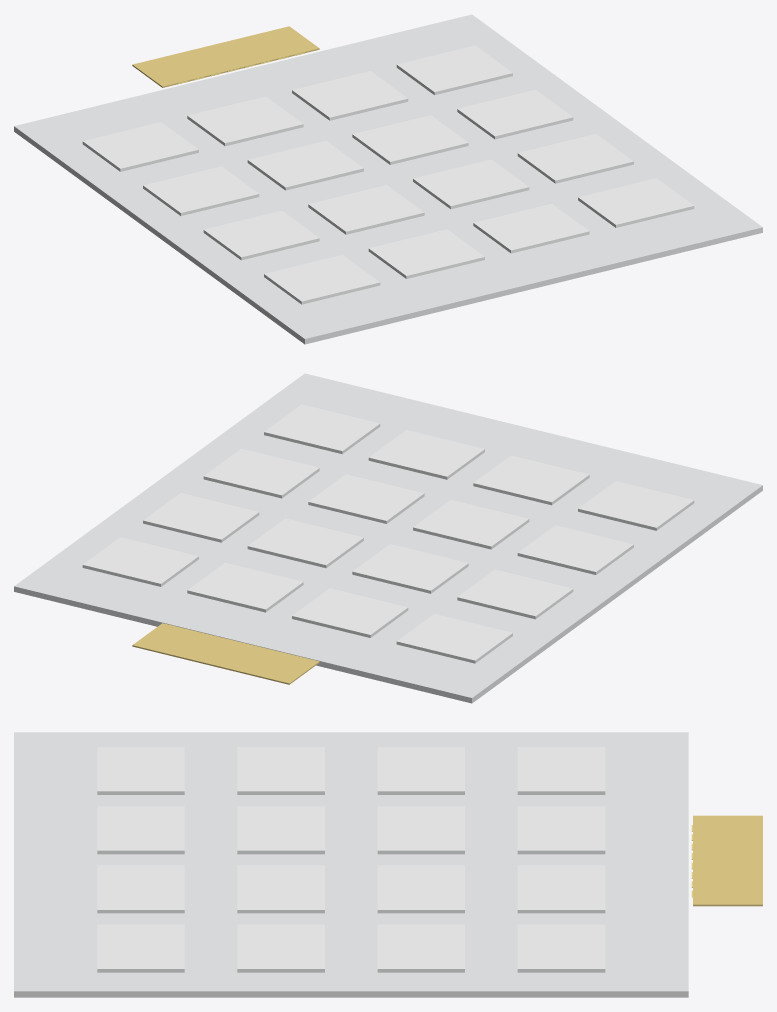
File: membrane-keypad.glb
3 renders of one model, top to bottom at view 1: azimuth 30°, elevation 25°; view 2: azimuth 150°, elevation 25°; view 3: azimuth 270°, elevation 25°, orthographic. The views are drawn at different scales.
Parts seen in each view (by area): view 1: keypad-4x4-membrane_mesh; view 2: keypad-4x4-membrane_mesh; view 3: keypad-4x4-membrane_mesh.
Part boxes in pixels (bbox=[...]): keypad-4x4-membrane_mesh: bbox=[14, 14, 762, 344]; keypad-4x4-membrane_mesh: bbox=[14, 373, 762, 703]; keypad-4x4-membrane_mesh: bbox=[14, 732, 762, 997].
Bounding box in the file's own units: 70 × 1.27 × 85.5.
